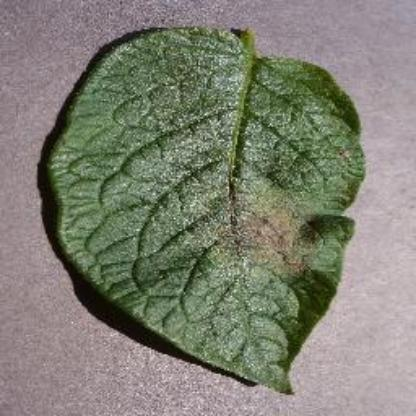Late-Blight: (40, 18, 376, 398)
